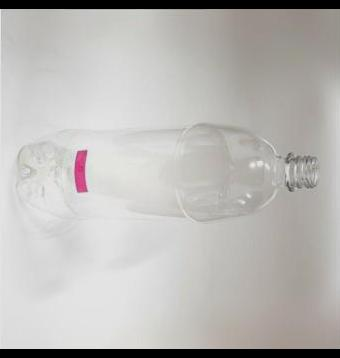bottle: (16, 121, 319, 222)
